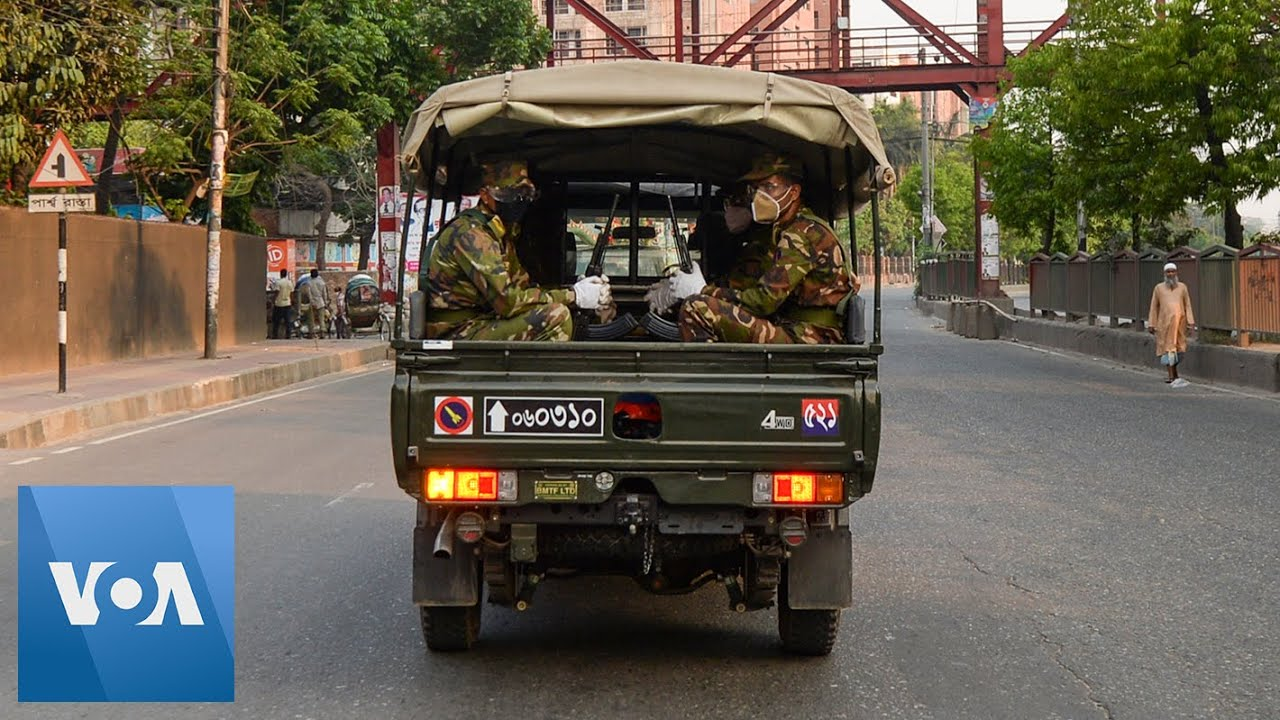policecar: (381, 62, 887, 657)
rickshaw: (340, 273, 394, 344)
